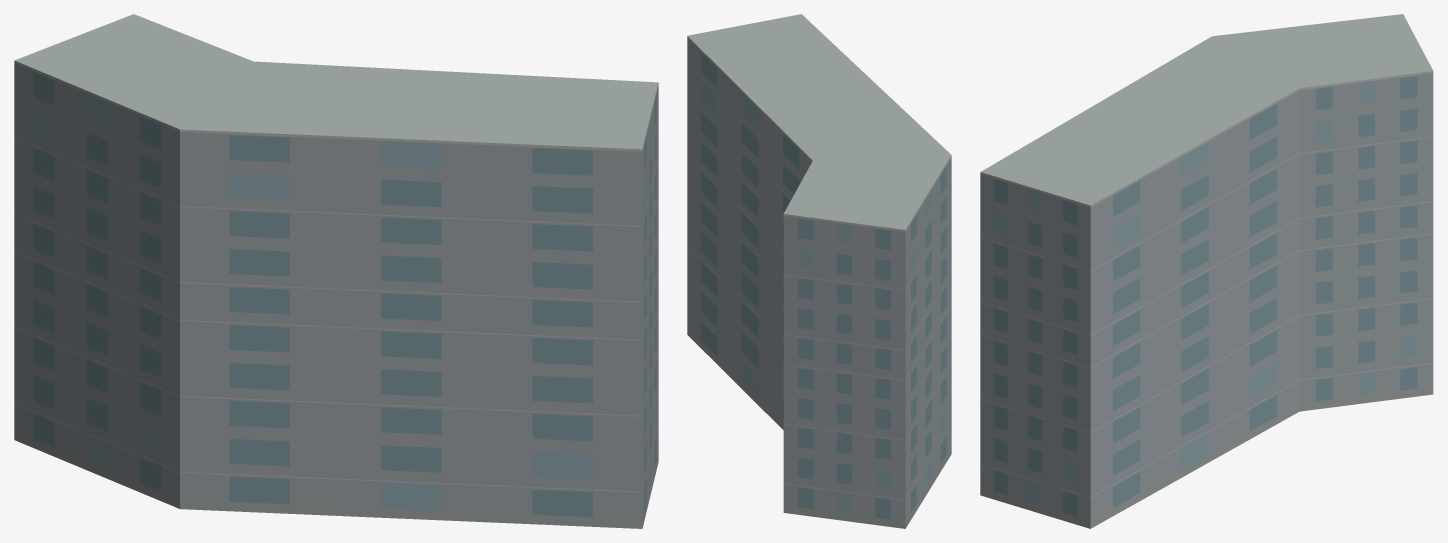
Rendered from survey-upis-32765622.glb.
3 views of the same model, side by side, from view 1: azimuth 30°, elevation 25°; view 2: azimuth 150°, elevation 25°; view 3: azimuth 270°, elevation 25° (orthographic). The views are drawn at different scales.
Parts seen in each view (by area): view 1: survey-upis-32765622.tmp; view 2: survey-upis-32765622.tmp; view 3: survey-upis-32765622.tmp.
Part boxes in pixels (<box>): survey-upis-32765622.tmp: <box>14,14,658,528</box>; survey-upis-32765622.tmp: <box>687,14,951,528</box>; survey-upis-32765622.tmp: <box>980,14,1433,528</box>.
Bounding box in the file's own units: 46.5 × 36.6 × 46.48.
